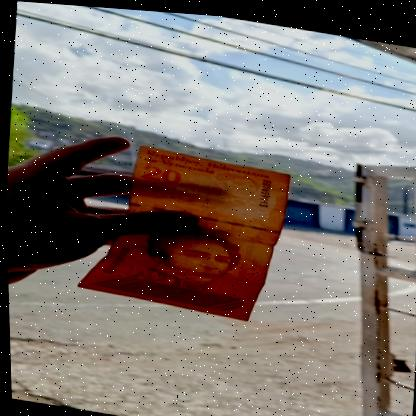twenty-front-vef: (70, 133, 294, 324)
